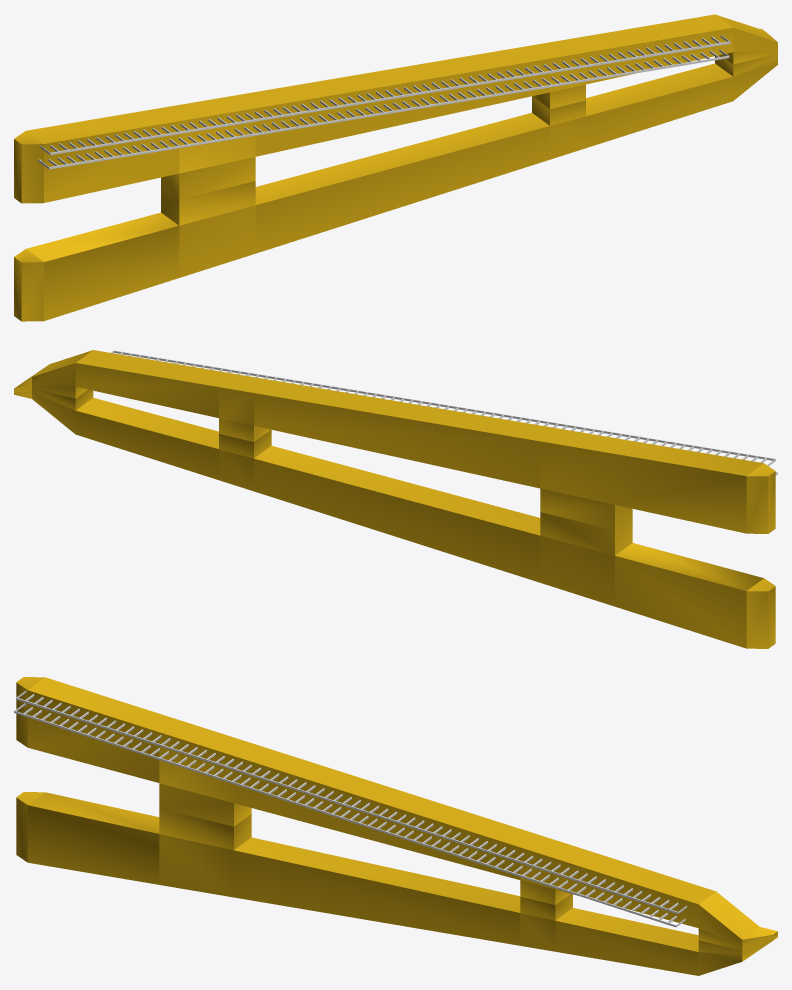
File: craneboom_normal.glb
3 renders of one model, top to bottom at view 1: azimuth 30°, elevation 25°; view 2: azimuth 150°, elevation 25°; view 3: azimuth 330°, elevation 25°, orthographic. The views are drawn at different scales.
Visible parts, largest first — view 1: craneboom, Cube.002, Cube.001; view 2: craneboom, Cube.001; view 3: craneboom, Cube.002, Cube.001.
Boxes of the visible parts, left/top/right/bottom form: craneboom: left=14, top=14, right=777, bottom=321; Cube.002: left=38, top=49, right=729, bottom=169; Cube.001: left=40, top=35, right=730, bottom=154; craneboom: left=14, top=350, right=775, bottom=648; Cube.001: left=111, top=350, right=775, bottom=466; craneboom: left=16, top=677, right=777, bottom=975; Cube.002: left=14, top=703, right=685, bottom=927; Cube.001: left=16, top=691, right=686, bottom=914.
Bounding box in the file's own units: 36.32 × 8.08 × 3.
